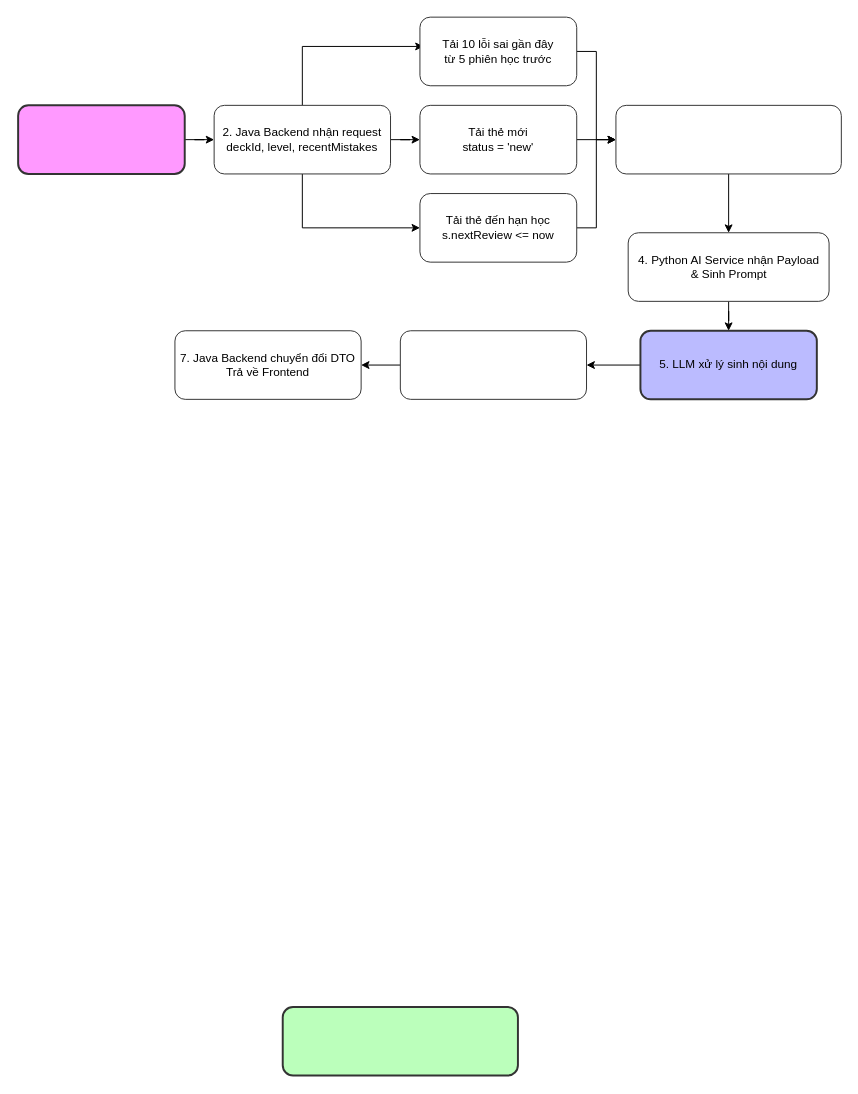
Some shapes in this 858 by 1094 pixel diagram are drawn without their labels. The centre of each missing label's shape, as x and y in pixels:
"1. Người dùng yêu cầu ôn tập Quiz/Story từ Frontend" belongs at point 101,139.
"3. Đóng gói Payload JSON Gửi HTTP POST sang Python AI Service" belongs at point 728,139.
"6. Phân tích kết quả JSON Trả về Java Backend" belongs at point 493,364.
"8. Người dùng làm bài ôn tập & Lưu lịch sử ôn tập" belongs at point 399,1040.
